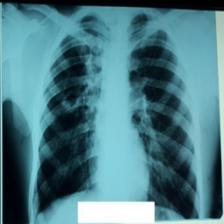tuberculosis: (31, 12, 206, 221)
